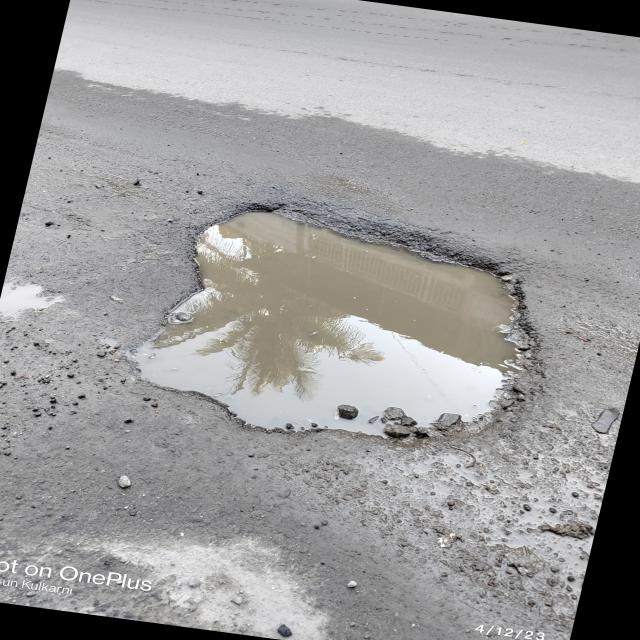Puddle pothole: (133, 183, 576, 444)
